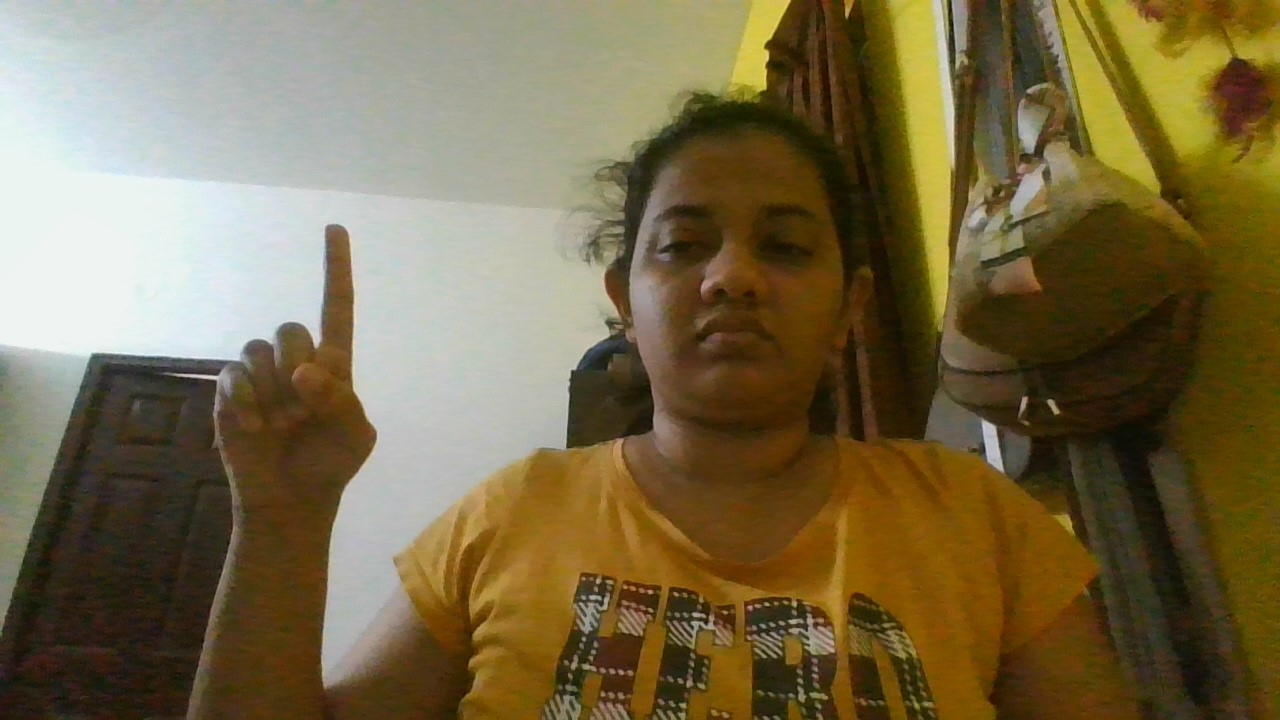d: (207, 217, 390, 534)
